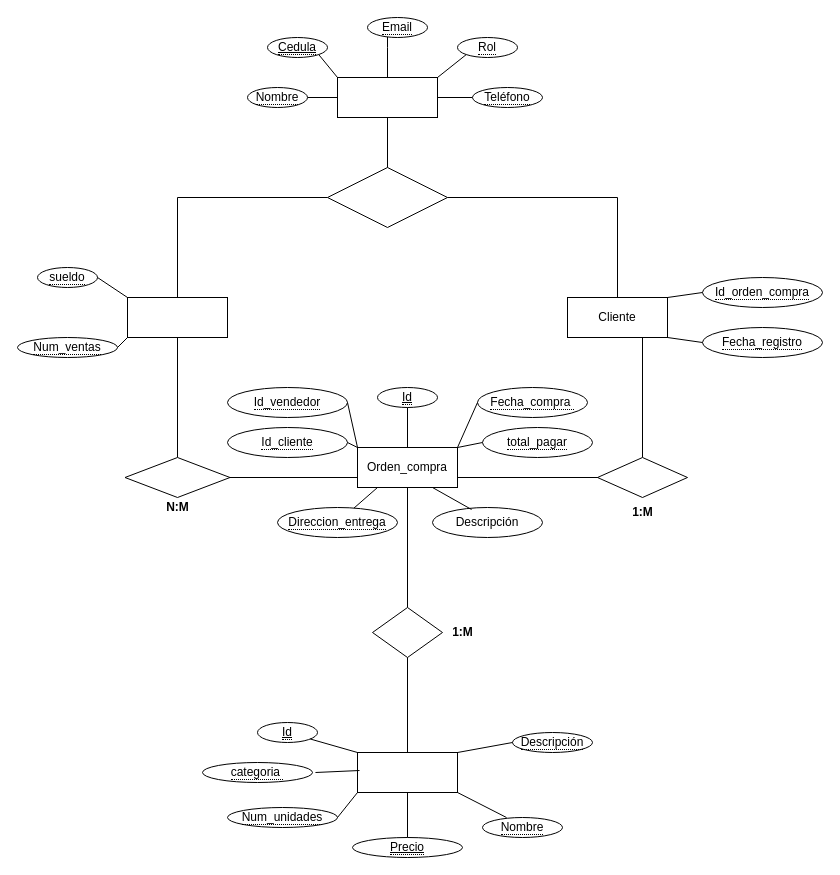
Image size: 840x875. Some labels were removed from this diagram. Here are the shapes that lost their labels. From the top down, the centre of each, then its label:
At point 387,97: "Persona".
At point 387,197: "Puede ser".
At point 177,317: "Vendedor".
At point 177,477: "Está asociado".
At point 642,477: "tiene".
At point 407,632: "Contiene".
At point 407,772: "Producto".
